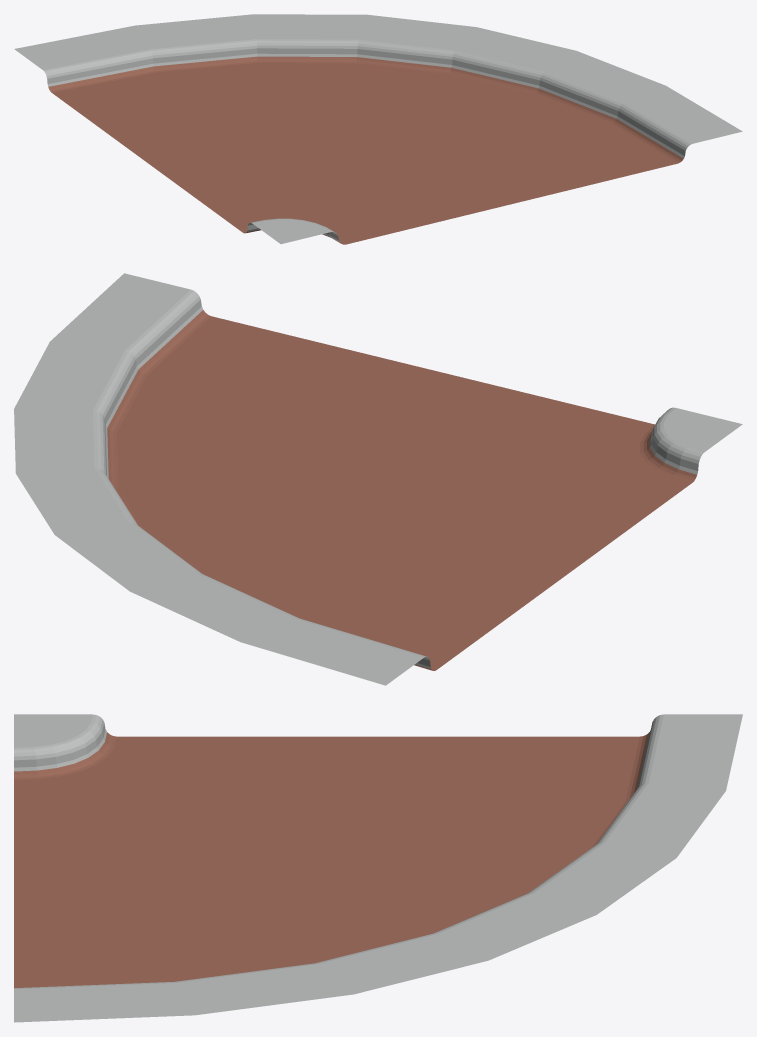
File: Road_Angle.fbx
3 renders of one model, top to bottom at view 1: azimuth 30°, elevation 25°; view 2: azimuth 150°, elevation 25°; view 3: azimuth 270°, elevation 25°, orthographic. The views are drawn at different scales.
Visible parts, largest first — view 1: Plan.002; view 2: Plan.002; view 3: Plan.002.
Boxes of the visible parts, left/top/right/bottom form: Plan.002: left=14, top=14, right=742, bottom=244; Plan.002: left=14, top=273, right=742, bottom=685; Plan.002: left=14, top=714, right=742, bottom=1022.
Bounding box in the file's own units: 800 × 26.78 × 800.
